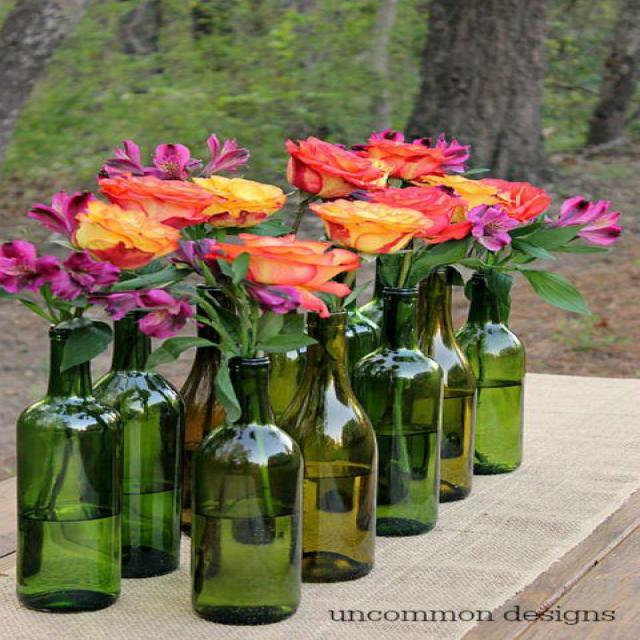non-organic waste: (187, 230, 309, 623)
